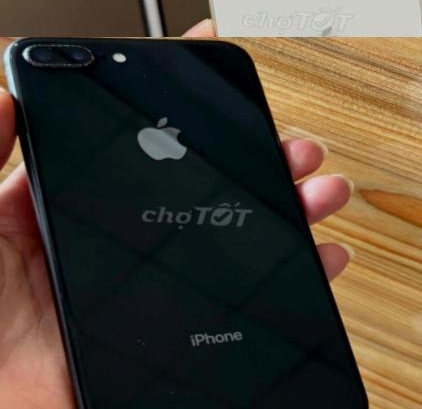scratch: (18, 37, 106, 72), (104, 321, 161, 361), (0, 37, 34, 68), (180, 141, 216, 163), (154, 242, 185, 266), (159, 376, 184, 405), (132, 62, 161, 86), (158, 84, 180, 96)
